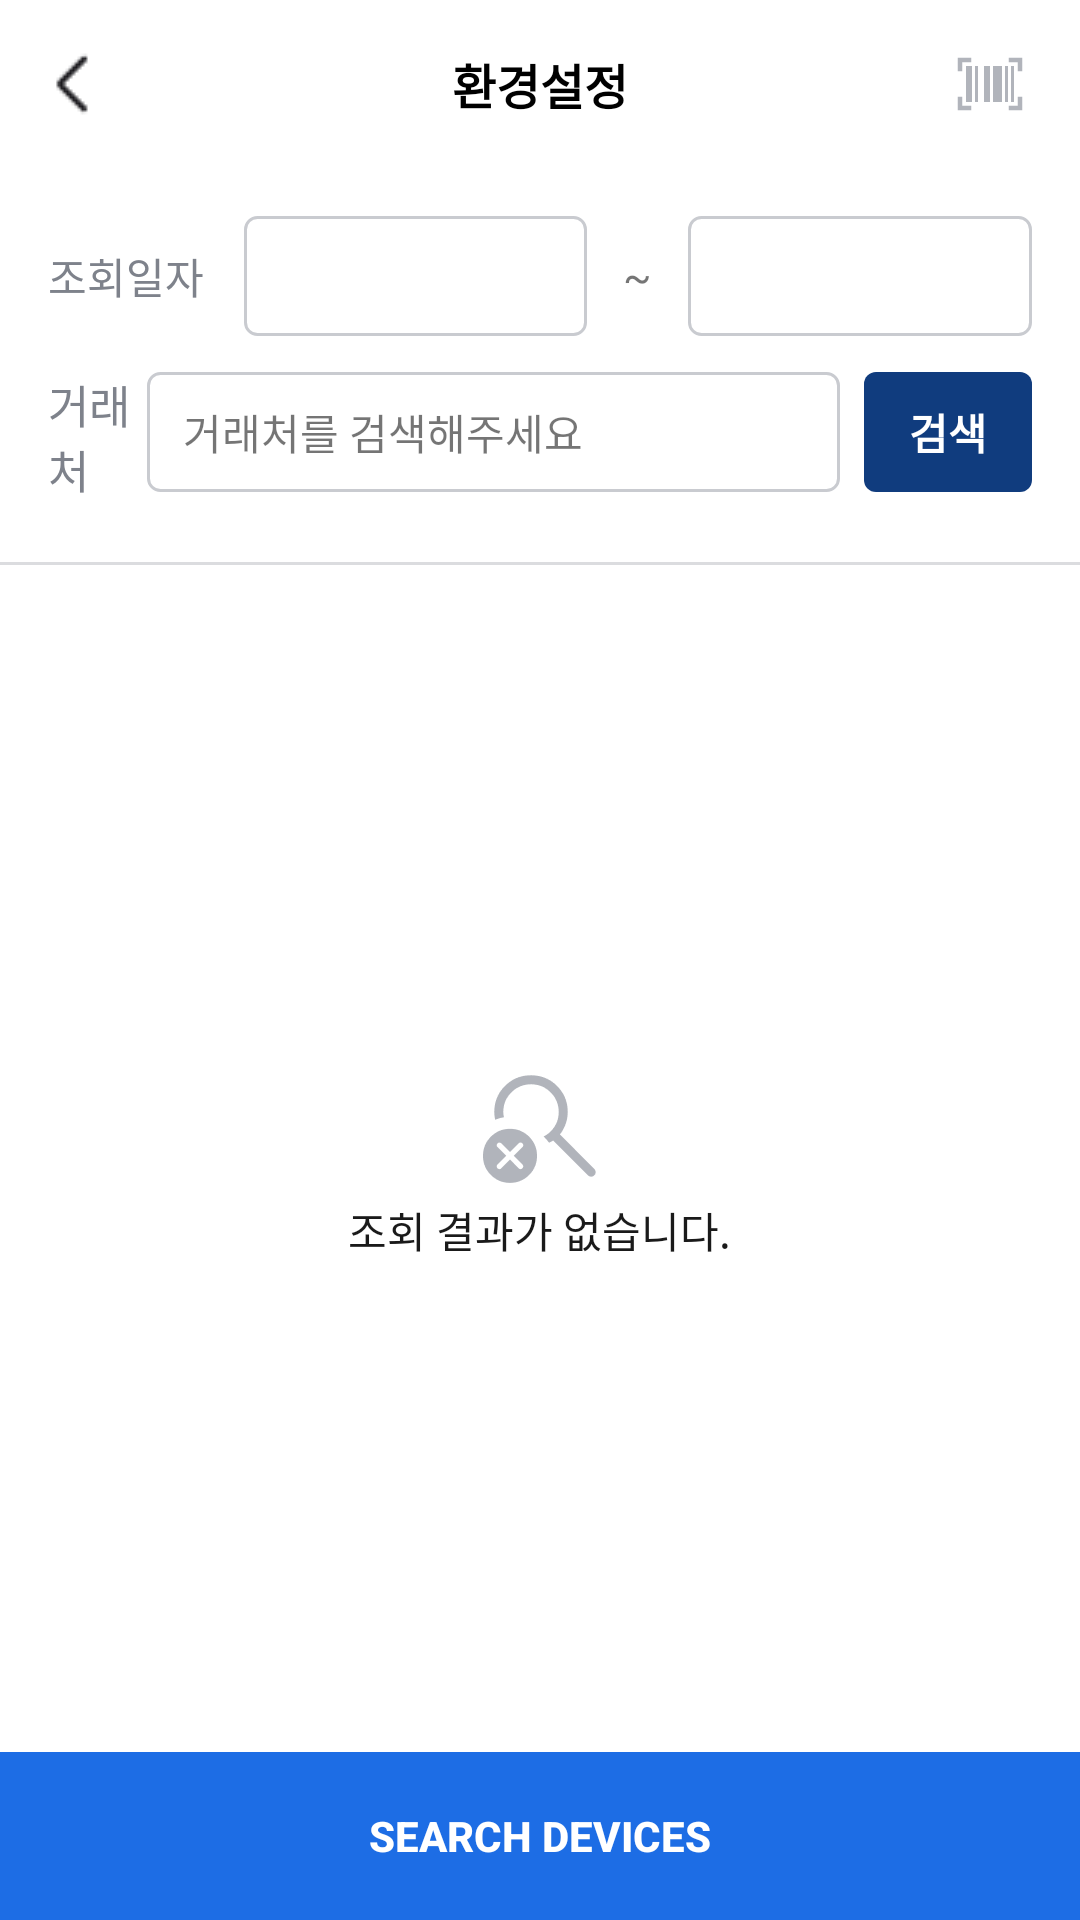

Named icons in this screenshot (1080*1920) and their centers, point (x, y):
arrow back: point (72, 84)
scan: point (990, 84)
search off: point (539, 1129)
